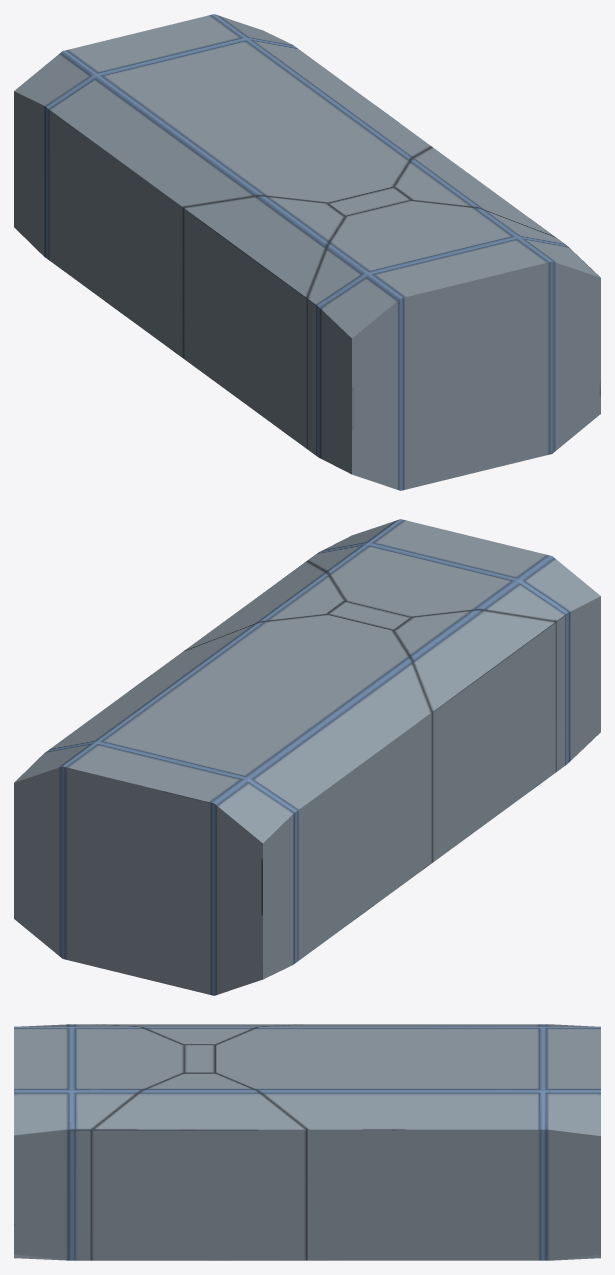
The model's file is Container_LODGroup.fbx.
The picture shows the model from 3 angles, top to bottom: view 1: azimuth 30°, elevation 25°; view 2: azimuth 150°, elevation 25°; view 3: azimuth 270°, elevation 25°; orthographic projection. The views are drawn at different scales.
Visible parts, largest first — view 1: Container_LOD0; view 2: Container_LOD0; view 3: Container_LOD0.
Boxes of the visible parts, left/top/right/bottom form: Container_LOD0: left=14, top=14, right=600, bottom=490; Container_LOD0: left=14, top=519, right=600, bottom=995; Container_LOD0: left=14, top=1024, right=600, bottom=1260.
Size of what is drawn, in the model's own units: 45.44 by 33.56 by 107.
1 material, 1 textured.
